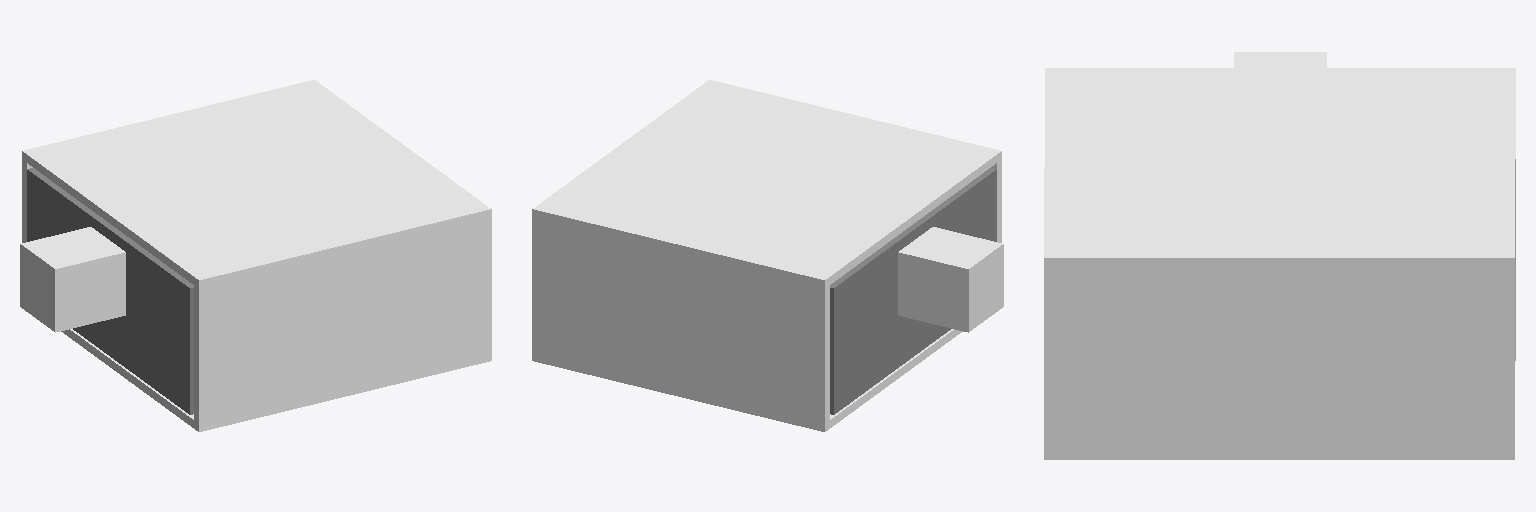
robot.urdf — drawer:
<?xml version="1.0" ?>
<!-- =================================================================================== -->
<!-- |    This document was autogenerated by xacro from drawer_one_sided_handle.xacro  | -->
<!-- |    EDITING THIS FILE BY HAND IS NOT RECOMMENDED                                 | -->
<!-- =================================================================================== -->
<robot name="drawer" xmlns:xacro="http://ros.org/wiki/xacro">
  <material name="omni/Blue">
    <color rgba="0 0 0.8 1"/>
  </material>
  <material name="omni/Red">
    <color rgba="1 0 0 1"/>
  </material>
  <material name="omni/White">
    <color rgba="1 1 1 1"/>
  </material>
  <material name="omni/Green">
    <color rgba="0 1 0 1"/>
  </material>
  <material name="omni/Yellow">
    <color rgba="1 1 0 1"/>
  </material>
  <material name="omni/LightGrey">
    <color rgba="0.6 0.6 0.6 1"/>
  </material>
  <material name="omni/DarkGrey">
    <color rgba="0.4 0.4 0.4 1"/>
  </material>
  <link name="world">
    <!--<inertial>-->
      <!--<origin rpy="0 0 0" xyz="0 0 0"/>-->
      <!--<mass value=".1"/>-->
      <!--<inertia ixx="1" ixy="0" ixz="0" iyy="1" iyz="0" izz="1"/>-->
    <!--</inertial>-->
  </link>
  <joint name="world_to_base" type="fixed">
    <origin rpy="0 0 3.1415" xyz="0 0 0.18"/>
    <parent link="world"/>
    <child link="base_link"/>
  </joint>
  <link name="base_link">
    <inertial>
      <origin rpy="0 0 0" xyz="0 0 0"/>
      <mass value=".1"/>
      <inertia ixx="1" ixy="0" ixz="0" iyy="1" iyz="0" izz="1"/>
    </inertial>
  </link>
  <link name="drawer">
    <!--<visual>-->
      <!--<origin rpy="0 0 0" xyz="0 0 0"/>-->
      <!--<geometry>-->
        <!--<box size="0.7 0.6 0.3"/>-->
      <!--</geometry>-->
      <!--<material name="omni/LightGrey"/>-->
    <!--</visual>-->
    <!--<collision>-->
      <!--<origin rpy="0 0 0" xyz="0 0 0"/>-->
      <!--<geometry>-->
        <!--<box size="0.7 0.6 0.3"/>-->
      <!--</geometry>-->
      <!--<contact_coefficients mu="0.0"/>-->
    <!--</collision>-->
    <!--<inertial>-->
      <!--&lt;!&ndash; CENTER OF MASS &ndash;&gt;-->
      <!--<origin rpy="0 0 0" xyz="0 0 0"/>-->
      <!--<mass value="0.1"/>-->
      <!--&lt;!&ndash; box inertia: 1/12*m(y^2+z^2), ... &ndash;&gt;-->
      <!--<inertia ixx="0.0225" ixy="0" ixz="0" iyy="0.0545" iyz="0" izz="0.068"/>-->
    <!--</inertial>-->
    <inertial>
      <origin rpy="0 0 0" xyz="0 0 0"/>
      <mass value=".1"/>
      <inertia ixx="1" ixy="0" ixz="0" iyy="1" iyz="0" izz="1"/>
    </inertial>
  </link>

  <link name="drawer_left_wall">
    <visual>
      <origin rpy="0 0 0" xyz="0 0 0"/>
      <geometry>
        <box size="0.7 0.02 0.3"/>
      </geometry>
      <material name="omni/LightGrey"/>
    </visual>
    <collision>
      <origin rpy="0 0 0" xyz="0 0 0.0"/>
      <geometry>
        <box size="0.7 0.02 0.3"/>
      </geometry>
    </collision>
    <inertial>
      <!-- CENTER OF MASS -->
      <origin rpy="0 0 0" xyz="0 0 0"/>
      <mass value="0.05"/>
      <!-- box inertia: 1/12*m(y^2+z^2), ... -->
      <inertia ixx="0.00257" ixy="0" ixz="0" iyy="0.0280625" iyz="0" izz="0.0255125"/>
    </inertial>
  </link>
  <joint name="drawer_2_dlw" type="fixed">
      <origin rpy="0 0 0" xyz="0 -0.34 0"/>
      <parent link="drawer"/>
      <child link="drawer_left_wall"/>
  </joint>

  <link name="drawer_right_wall">
    <visual>
      <origin rpy="0 0 0" xyz="0 0 0"/>
      <geometry>
        <box size="0.7 0.02 0.3"/>
      </geometry>
      <material name="omni/LightGrey"/>
    </visual>
    <collision>
      <origin rpy="0 0 0" xyz="0 0 0.0"/>
      <geometry>
        <box size="0.7 0.02 0.3"/>
      </geometry>
    </collision>
    <inertial>
      <!-- CENTER OF MASS -->
      <origin rpy="0 0 0" xyz="0 0 0"/>
      <mass value="0.05"/>
      <!-- box inertia: 1/12*m(y^2+z^2), ... -->
      <inertia ixx="0.00257" ixy="0" ixz="0" iyy="0.0280625" iyz="0" izz="0.0255125"/>
    </inertial>
  </link>
  <joint name="drawer_2_drw" type="fixed">
    <origin rpy="0 0 0" xyz="0 0.34 0"/>
    <parent link="drawer"/>
    <child link="drawer_right_wall"/>
  </joint>

  <link name="drawer_bottom_wall">
    <contact>
			<friction_anchor/>
			<lateral_friction value="1.0"/>
		</contact>
    <visual>
      <origin rpy="0 0 0" xyz="0 0 0"/>
      <geometry>
        <box size="0.7 0.7 0.02"/>
      </geometry>
      <material name="omni/LightGrey"/>
    </visual>
    <collision>
      <origin rpy="0 0 0" xyz="0 0 0.0"/>
      <geometry>
        <box size="0.7 0.7 0.02"/>
      </geometry>
    </collision>
    <inertial>
      <!-- CENTER OF MASS -->
      <origin rpy="0 0 0" xyz="0 0 0"/>
      <mass value="0.05"/>
      <!-- box inertia: 1/12*m(y^2+z^2), ... -->
      <inertia ixx="0.0109" ixy="0" ixz="0" iyy="0.0255125" iyz="0" izz="0.0363925"/>
    </inertial>
  </link>
  <joint name="drawer_2_dbow" type="fixed">
    <origin rpy="0 0 0" xyz="0 0 -0.14"/>
    <parent link="drawer"/>
    <child link="drawer_bottom_wall"/>
  </joint>
  <link name="drawer_back_wall">
    <visual>
      <origin rpy="0 0 0" xyz="0 0 0"/>
      <geometry>
        <box size="0.02 0.7 0.3"/>
      </geometry>
      <material name="omni/LightGrey"/>
    </visual>
    <collision>
      <origin rpy="0 0 0" xyz="0 0 0.0"/>
      <geometry>
        <box size="0.02 0.7 0.3"/>
      </geometry>
    </collision>
    <inertial>
      <!-- CENTER OF MASS -->
      <origin rpy="0 0 0" xyz="0 0 0"/>
      <mass value="0.05"/>
      <!-- box inertia: 1/12*m(y^2+z^2), ... -->
      <inertia ixx="0.01413" ixy="0" ixz="0" iyy="0.00325" iyz="0" izz="0.02178"/>
    </inertial>
  </link>
  <joint name="drawer_2_dbaw" type="fixed">
    <origin rpy="0 0 0" xyz="0.34 0 0"/>
    <parent link="drawer"/>
    <child link="drawer_back_wall"/>
  </joint>

  <link name="drawer_front_wall">
    <visual>
      <origin rpy="0 0 0" xyz="0 0 0"/>
      <geometry>
        <box size="0.02 0.7 0.3"/>
      </geometry>
      <material name="omni/LightGrey"/>
    </visual>
    <collision>
      <origin rpy="0 0 0" xyz="0 0 0.0"/>
      <geometry>
        <box size="0.02 0.7 0.3"/>
      </geometry>
    </collision>
    <inertial>
      <!-- CENTER OF MASS -->
      <origin rpy="0 0 0" xyz="0 0 0"/>
      <mass value="0.05"/>
      <!-- box inertia: 1/12*m(y^2+z^2), ... -->
      <inertia ixx="0.01413" ixy="0" ixz="0" iyy="0.00325" iyz="0" izz="0.02178"/>
    </inertial>
  </link>
  <joint name="drawer_2_dfw" type="fixed">
    <origin rpy="0 0 0" xyz="-0.34 0 0"/>
    <parent link="drawer"/>
    <child link="drawer_front_wall"/>
  </joint>


  <joint name="base_drawer_joint" type="prismatic">
    <origin rpy="0 0 0" xyz="0 0 0"/>
    <parent link="base_link"/>
    <child link="drawer"/>
    <dynamics damping="0.0" friction="0.01"/>
    <limit effort="10" lower="0.0" upper="100" velocity="100.0"/>
    <axis xyz="1 0 0"/>
  </joint>

  <link name="left_wall">
    <visual>
      <origin rpy="0 0 0" xyz="0 0 0"/>
      <geometry>
        <box size="0.71 0.02 0.32"/>
      </geometry>
      <material name="omni/White"/>
    </visual>
    <collision>
      <origin rpy="0 0 0" xyz="0 0 0.0"/>
      <geometry>
        <box size="0.71 0.02 0.32"/>
      </geometry>
    </collision>
    <inertial>
      <!-- CENTER OF MASS -->
      <origin rpy="0 0 0" xyz="0 0 0"/>
      <mass value="0.05"/>
      <!-- box inertia: 1/12*m(y^2+z^2), ... -->
      <inertia ixx="0.00257" ixy="0" ixz="0" iyy="0.0280625" iyz="0" izz="0.0255125"/>
    </inertial>
  </link>
  <joint name="b_2_lw" type="fixed">
    <origin rpy="0 0 0" xyz="-0.01 -0.37 0"/>
    <parent link="base_link"/>
    <child link="left_wall"/>
  </joint>
  <link name="right_wall">
    <visual>
      <origin rpy="0 0 0" xyz="0 0 0"/>
      <geometry>
        <box size="0.71 0.02 0.32"/>
      </geometry>
      <material name="omni/White"/>
    </visual>
    <collision>
      <origin rpy="0 0 0" xyz="0 0 0.0"/>
      <geometry>
        <box size="0.71 0.02 0.32"/>
      </geometry>
    </collision>
    <inertial>
      <!-- CENTER OF MASS -->
      <origin rpy="0 0 0" xyz="0 0 0"/>
      <mass value="0.05"/>
      <!-- box inertia: 1/12*m(y^2+z^2), ... -->
      <inertia ixx="0.00257" ixy="0" ixz="0" iyy="0.0280625" iyz="0" izz="0.0255125"/>
    </inertial>
  </link>
  <joint name="b_2_rw" type="fixed">
    <origin rpy="0 0 0" xyz="-0.01 0.37 0"/>
    <parent link="base_link"/>
    <child link="right_wall"/>
  </joint>
  <link name="bottom_wall">
    <visual>
      <origin rpy="0 0 0" xyz="0 0 0"/>
      <geometry>
        <box size="0.71 0.76 0.02"/>
      </geometry>
      <material name="omni/White"/>
    </visual>
    <collision>
      <origin rpy="0 0 0" xyz="0 0 0.0"/>
      <geometry>
        <box size="0.71 0.76 0.02"/>
      </geometry>
    </collision>
    <inertial>
      <!-- CENTER OF MASS -->
      <origin rpy="0 0 0" xyz="0 0 0"/>
      <mass value="0.05"/>
      <!-- box inertia: 1/12*m(y^2+z^2), ... -->
      <inertia ixx="0.0109" ixy="0" ixz="0" iyy="0.0255125" iyz="0" izz="0.0363925"/>
    </inertial>
  </link>
  <joint name="b_2_bw" type="fixed">
    <origin rpy="0 0 0" xyz="-0.01 0 -0.17"/>
    <parent link="base_link"/>
    <child link="bottom_wall"/>
  </joint>
  <link name="top_wall">
    <visual>
      <origin rpy="0 0 0" xyz="0 0 0"/>
      <geometry>
        <box size="0.71 0.76 0.02"/>
      </geometry>
      <material name="omni/White"/>
    </visual>
    <collision>
      <origin rpy="0 0 0" xyz="0 0 0.0"/>
      <geometry>
        <box size="0.71 0.76 0.02"/>
      </geometry>
    </collision>
    <inertial>
      <!-- CENTER OF MASS -->
      <origin rpy="0 0 0" xyz="0 0 0"/>
      <mass value="0.05"/>
      <!-- box inertia: 1/12*m(y^2+z^2), ... -->
      <inertia ixx="0.0109" ixy="0" ixz="0" iyy="0.0255125" iyz="0" izz="0.0363925"/>
    </inertial>
  </link>
  <joint name="b_2_tw" type="fixed">
    <origin rpy="0 0 0" xyz="-0.01 0 0.17"/>
    <parent link="base_link"/>
    <child link="top_wall"/>
  </joint>
  <link name="back_wall">
    <visual>
      <origin rpy="0 0 0" xyz="0 0 0"/>
      <geometry>
        <box size="0.02 0.76 0.36"/>
      </geometry>
      <material name="omni/White"/>
    </visual>
    <collision>
      <origin rpy="0 0 0" xyz="0 0 0.0"/>
      <geometry>
        <box size="0.02 0.76 0.36"/>
      </geometry>
    </collision>
    <inertial>
      <!-- CENTER OF MASS -->
      <origin rpy="0 0 0" xyz="0 0 0"/>
      <mass value="0.05"/>
      <!-- box inertia: 1/12*m(y^2+z^2), ... -->
      <inertia ixx="0.01413" ixy="0" ixz="0" iyy="0.00325" iyz="0" izz="0.02178"/>
    </inertial>
  </link>
  <joint name="b_2_backw" type="fixed">
    <origin rpy="0 0 0" xyz="-0.37 0 0"/>
    <parent link="base_link"/>
    <child link="back_wall"/>
  </joint>

  <!-- 添加把手 -->
  <link name="handle">
    <visual>
      <origin rpy="0 0 0" xyz="0 0 0"/>
      <geometry>
        <box size="0.2 0.15 0.15"/>
      </geometry>
      <material name="omni/White"/>
    </visual>
    <collision>
      <origin rpy="0 0 0" xyz="0 0 0.0"/>
      <geometry>
        <box size="0.2 0.15 0.15"/>
      </geometry>
       <surface>
      <friction>
        <ode>
          <mu>1.0</mu>  <!-- 增大摩擦系数 -->
          <mu2>1.0</mu2> <!-- 可以设置不同方向上的摩擦系数 -->
        </ode>
      </friction>
    </surface>
    </collision>
    <inertial>
      <!-- CENTER OF MASS -->
      <origin rpy="0 0 0" xyz="0.05 0 0"/>
      <mass value="0.05"/>
      <!-- box inertia: 1/12*m(y^2+z^2), ... -->
      <inertia ixx="0.000002" ixy="0" ixz="0" iyy="0.000002" iyz="0" izz="0.000002"/>
    </inertial>
  </link>
  <joint name="drawer_2_handle" type="fixed">
    <origin rpy="0 0 0" xyz="0.425 0 0.05"/>
    <parent link="drawer"/>
    <child link="handle"/>
  </joint>

  <link name="drawer_obj_pos">
    <contact>
			<friction_anchor/>
			<lateral_friction value="1.0"/>
		</contact>
    <!--<visual>-->
      <!--<origin rpy="0 0 0" xyz="0 0 0"/>-->
      <!--<geometry>-->
        <!--<box size="0.02 0.02 0.02"/>-->
      <!--</geometry>-->
    <!--</visual>-->
    <inertial>
      <!-- CENTER OF MASS -->
      <origin rpy="0 0 0" xyz="0 0 0"/>
      <mass value="0.05"/>
      <!-- box inertia: 1/12*m(y^2+z^2), ... -->
      <inertia ixx="0.0109" ixy="0" ixz="0" iyy="0.0255125" iyz="0" izz="0.0363925"/>
    </inertial>
  </link>
  <joint name="dbow2dop" type="fixed">
    <origin rpy="0 0 0" xyz="0.16 0 0.06"/>
    <parent link="drawer_bottom_wall"/>
    <child link="drawer_obj_pos"/>
  </joint>
</robot>

--- What the picture shows (computed from the rendered views, not written in the file) ---
3 views of the same robot in one strip: view 1: azimuth 30°, elevation 25°; view 2: azimuth 150°, elevation 25°; view 3: azimuth 270°, elevation 25° (orthographic).
Model drawer with 15 links and 14 joints (1 prismatic, 13 fixed), rooted at world, posed all joints at 0.
Visible links, largest first — view 1: top_wall, right_wall, drawer_back_wall, handle, bottom_wall, back_wall, drawer_right_wall; view 2: top_wall, left_wall, drawer_back_wall, handle, bottom_wall, back_wall, drawer_left_wall, drawer_bottom_wall; view 3: back_wall, top_wall, handle.
Boxes of the visible links, x1,y1,x2,y2 form: top_wall: (22,82,484,288); right_wall: (194,219,484,423); drawer_back_wall: (27,168,193,414); handle: (20,227,125,332); bottom_wall: (61,329,484,431); back_wall: (307,80,491,362); drawer_right_wall: (185,284,193,414); top_wall: (539,81,1001,288); left_wall: (540,220,829,423); drawer_back_wall: (830,169,996,412); handle: (898,227,1003,332); bottom_wall: (541,329,962,431); back_wall: (532,80,715,362); drawer_left_wall: (830,285,838,414); drawer_bottom_wall: (830,328,950,414); back_wall: (1044,253,1514,459); top_wall: (1044,68,1515,253); handle: (1234,52,1326,67).
Bounding box of the posed robot: 0.905 × 0.7601 × 0.36 m (x, y, z).
Geometry: primitives only (box / cylinder / sphere), no mesh files.